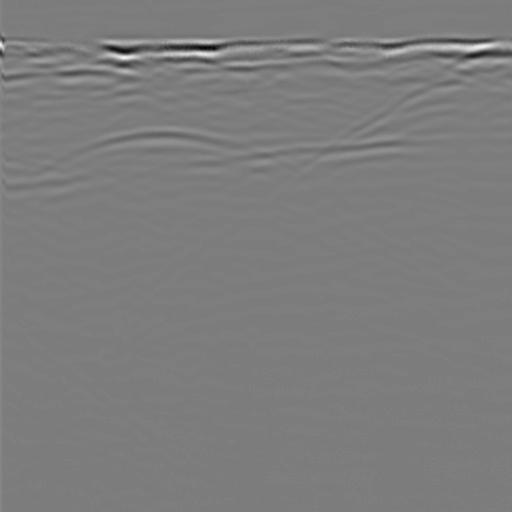hyperbola: (22, 110, 314, 220)
